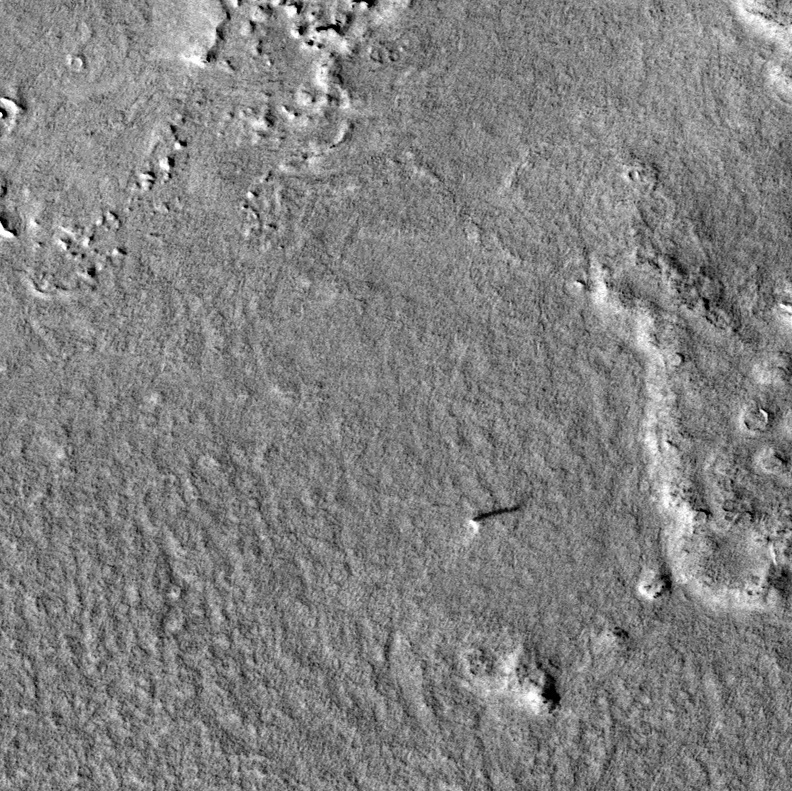dust_devil: (467, 501, 521, 535)
